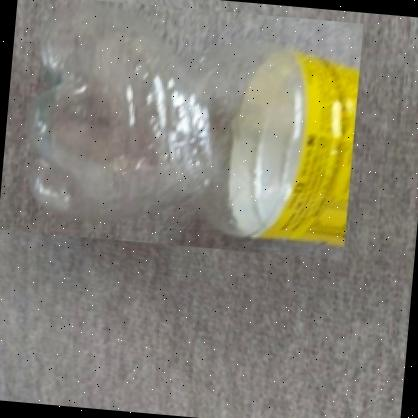bottle: (0, 0, 363, 259)
label: (239, 36, 366, 253)
